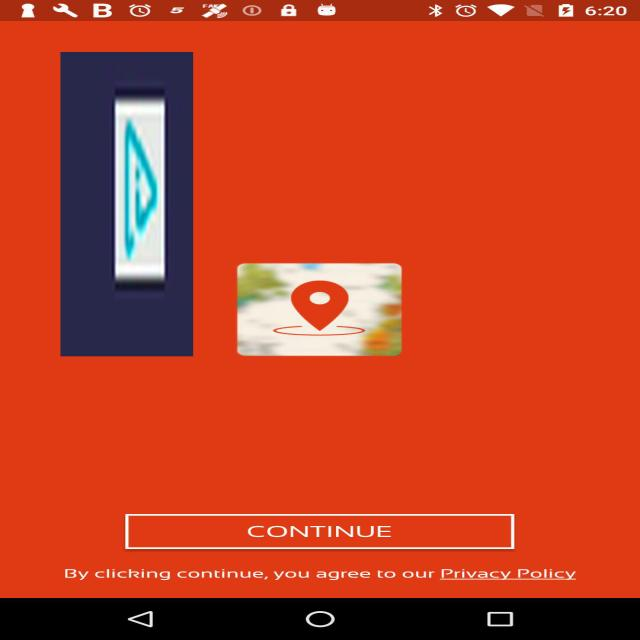sneaking: (61, 52, 193, 356)
